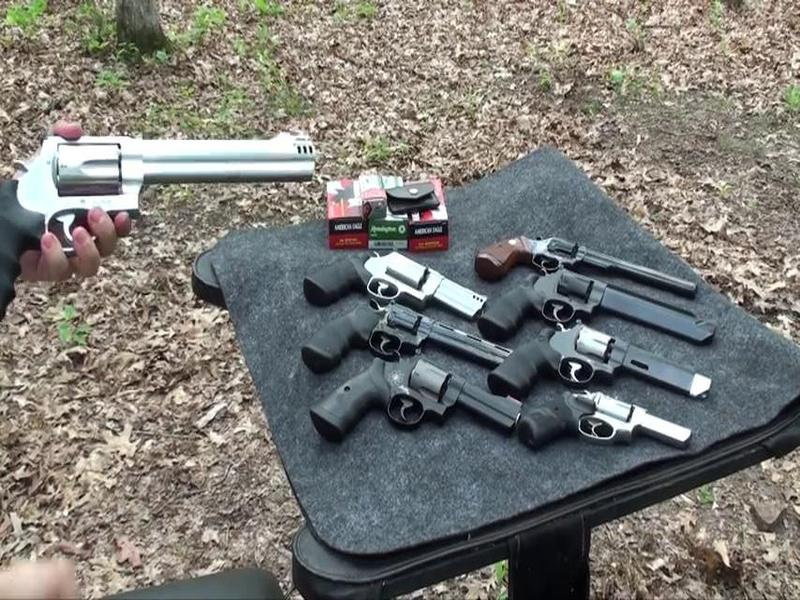Revolver: (15, 110, 320, 267), (308, 360, 522, 458), (467, 217, 707, 297), (528, 380, 692, 464)
